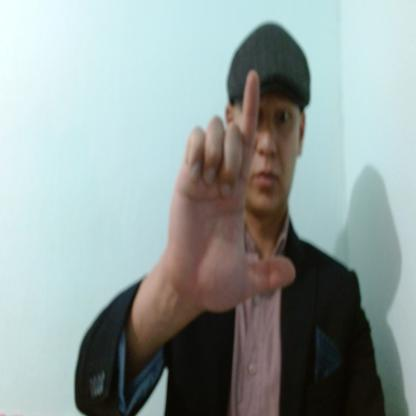L: (169, 70, 295, 312)
